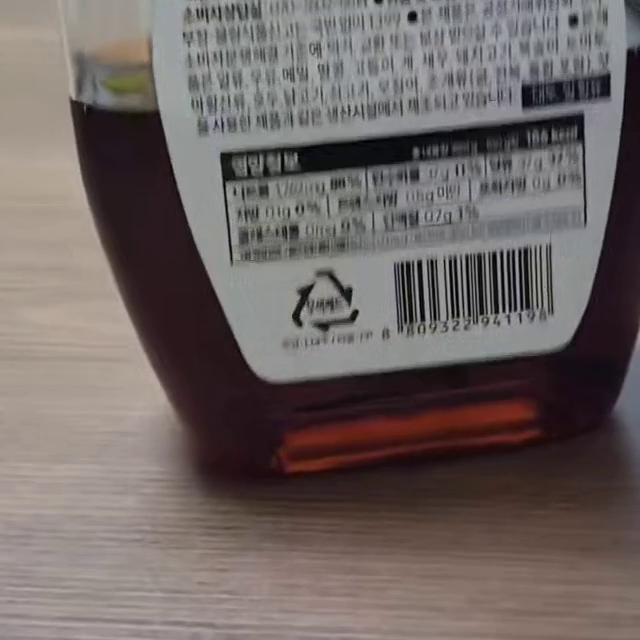ColorlessPet: (290, 268, 360, 333)
